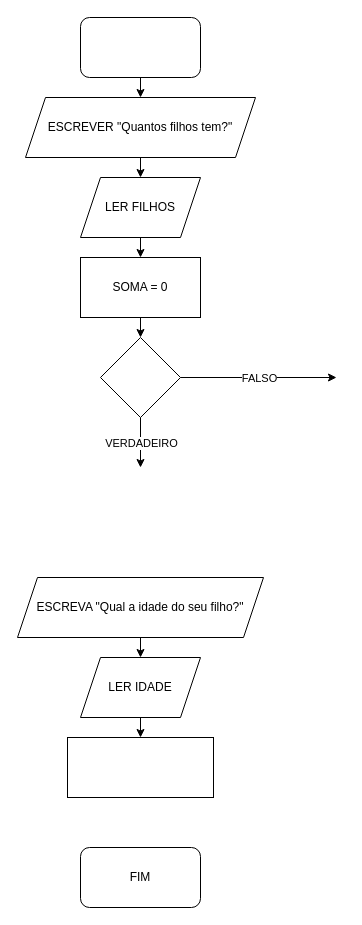
Image size: 362x925. Some labels were removed from this diagram. The centre of each missing label's shape, as x and y in pixels:
FILHOS > 0: (x=140, y=377)
INÍCIO: (x=140, y=47)
SOMA = SOMA + IDADE: (x=140, y=767)
